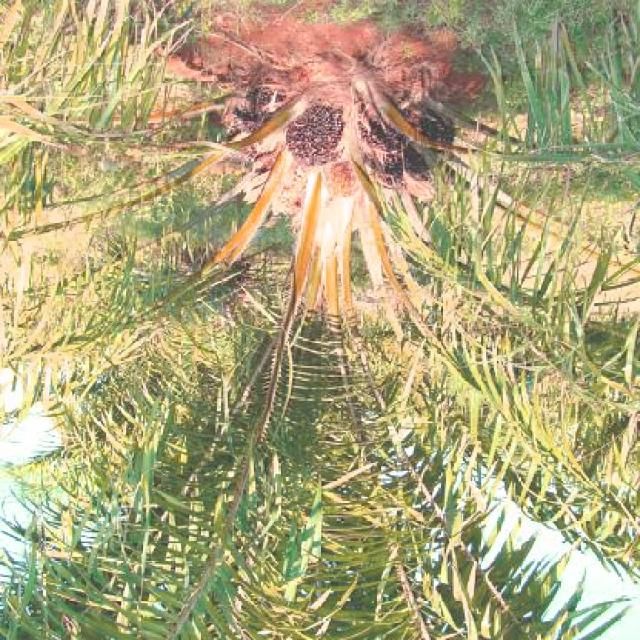palm-oil: (282, 102, 345, 166)
